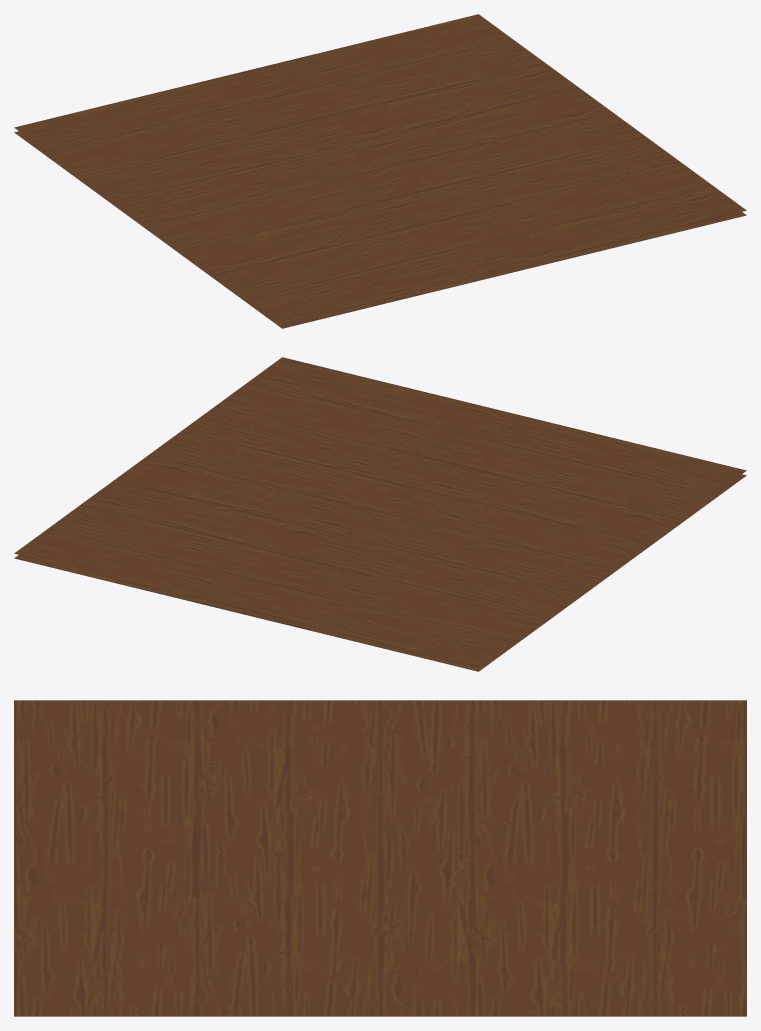
Rendered from Floor_WoodDark.gltf.
3 renders of one model, top to bottom at view 1: azimuth 30°, elevation 25°; view 2: azimuth 150°, elevation 25°; view 3: azimuth 270°, elevation 25°, orthographic. The views are drawn at different scales.
Parts seen in each view (by area): view 1: Floor_WoodDark; view 2: Floor_WoodDark; view 3: Floor_WoodDark.
Boxes of the visible parts, x1=… form: Floor_WoodDark: x1=14, y1=14, x2=746, y2=328; Floor_WoodDark: x1=14, y1=357, x2=746, y2=671; Floor_WoodDark: x1=14, y1=700, x2=746, y2=1016.
Size of the model in its own units: 2 by 0.02 by 2.
1 material, 1 textured.
